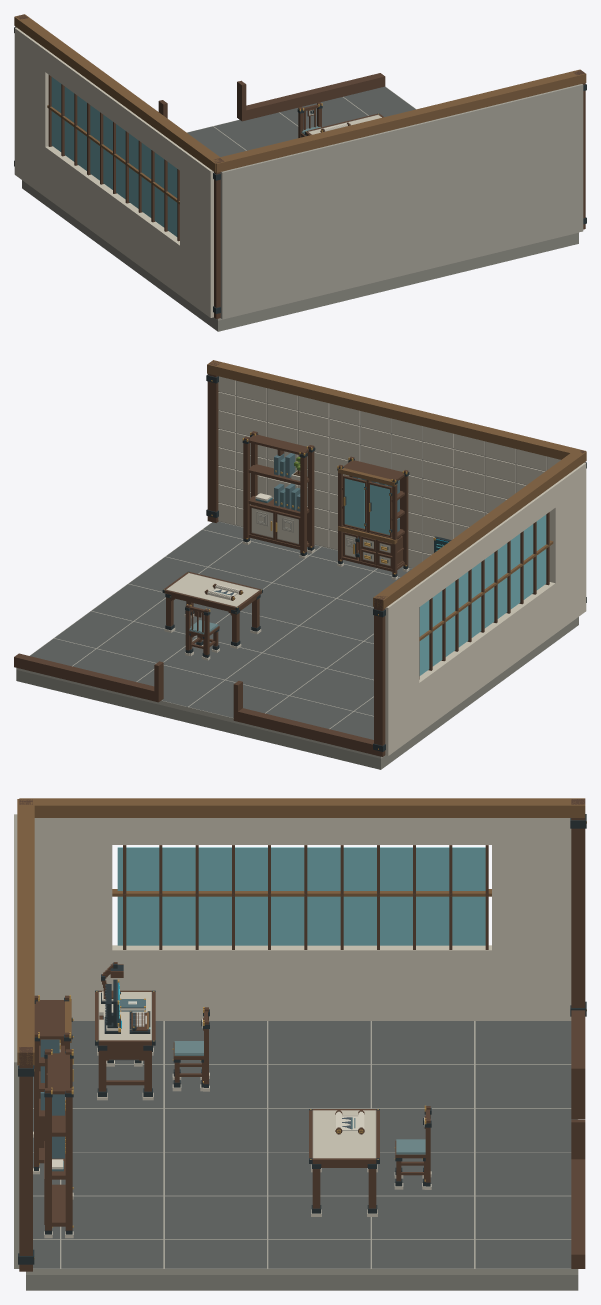
3 renders of one model, top to bottom at view 1: azimuth 30°, elevation 25°; view 2: azimuth 150°, elevation 25°; view 3: azimuth 270°, elevation 25°, orthographic. The views are drawn at different scales.
Parts seen in each view (by area): view 1: 真实窗洞、木梁与切角房间墙, 分层实心台基与独立石铺面, 餐椅; view 2: 真实窗洞、木梁与切角房间墙, 分层实心台基与独立石铺面, 科研资料柜 · 公共空间用途修正, 书架书柜 · 用途材质派生, 餐桌桌架, 餐椅; view 3: 真实窗洞、木梁与切角房间墙, 分层实心台基与独立石铺面, 书架书柜 · 用途材质派生, 餐桌桌架, 科研资料柜 · 公共空间用途修正, 办公桌桌架, 餐椅 (×2), 桌面显示器与支座 · 用途材质派生.
Part boxes in pixels (box(x1,y1,x2,y2)): 真实窗洞、木梁与切角房间墙: box(14, 14, 586, 319); 分层实心台基与独立石铺面: box(22, 86, 578, 331); 餐椅: box(297, 102, 322, 137); 真实窗洞、木梁与切角房间墙: box(14, 360, 586, 756); 分层实心台基与独立石铺面: box(16, 521, 578, 769); 科研资料柜 · 公共空间用途修正: box(337, 456, 409, 579); 书架书柜 · 用途材质派生: box(242, 431, 315, 558); 餐桌桌架: box(162, 571, 262, 648); 餐椅: box(185, 604, 219, 660); 真实窗洞、木梁与切角房间墙: box(14, 798, 586, 1271); 分层实心台基与独立石铺面: box(26, 1021, 578, 1290); 书架书柜 · 用途材质派生: box(44, 1049, 73, 1238); 餐桌桌架: box(309, 1109, 379, 1216); 科研资料柜 · 公共空间用途修正: box(33, 995, 73, 1174); 办公桌桌架: box(95, 990, 155, 1100); 餐椅 (×2): box(172, 1007, 431, 1189); 桌面显示器与支座 · 用途材质派生: box(104, 979, 121, 1033).
Size of the model in its own units: 7.03 by 3.08 by 6.64.
30 materials, 30 textured.
